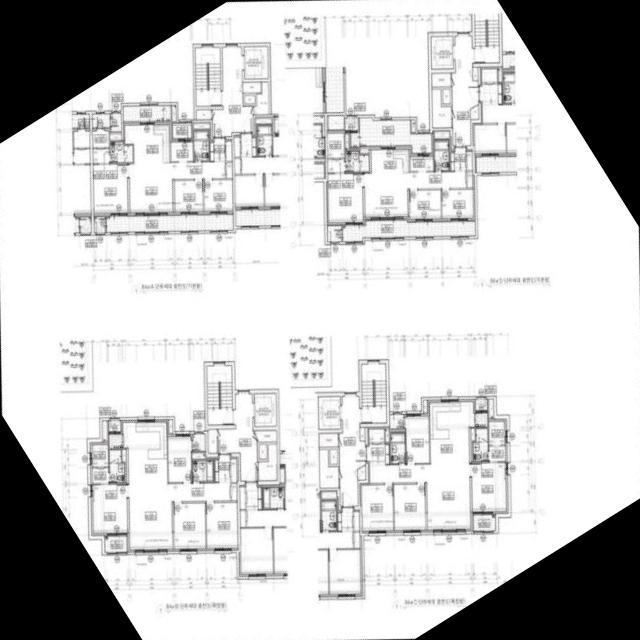background: (0, 0, 640, 640)
space_balconi: (342, 220, 475, 241), (359, 117, 432, 153), (106, 214, 233, 232), (123, 105, 171, 121), (104, 536, 127, 552), (473, 515, 495, 531), (172, 123, 191, 138), (92, 113, 110, 127)
space_bedroom: (471, 462, 506, 511), (92, 484, 127, 533), (328, 173, 363, 222), (93, 164, 128, 213), (206, 502, 238, 548), (393, 484, 425, 530), (361, 484, 393, 530), (173, 503, 205, 548), (405, 416, 429, 463), (167, 436, 191, 482), (409, 190, 441, 219), (442, 189, 473, 218), (174, 180, 203, 211), (204, 180, 233, 211)
space_dressroom: (488, 421, 505, 461), (327, 133, 344, 172), (92, 444, 108, 483), (92, 129, 109, 163)
space_elevator: (244, 46, 268, 78), (318, 396, 340, 429), (431, 36, 453, 69), (254, 393, 276, 426)
space_elevator_hall: (212, 47, 253, 136), (218, 394, 257, 480), (451, 36, 478, 145), (339, 396, 365, 506)
space_front: (214, 455, 237, 482), (366, 443, 389, 465), (210, 138, 232, 161), (450, 148, 466, 171)
space_kitchen: (429, 402, 475, 463), (123, 422, 167, 484), (125, 124, 169, 164), (371, 149, 409, 173)
space_living_room: (128, 482, 237, 549), (369, 464, 470, 529), (129, 161, 232, 212), (364, 171, 466, 217)
space_other: (319, 449, 338, 488), (432, 89, 451, 127), (258, 444, 277, 480), (254, 82, 268, 114), (171, 142, 193, 161), (410, 157, 433, 171), (319, 433, 338, 446), (431, 73, 450, 86), (254, 430, 276, 441), (328, 115, 344, 129), (208, 429, 217, 453), (327, 226, 341, 241), (193, 434, 205, 451), (110, 113, 121, 131), (389, 414, 403, 428), (369, 429, 384, 442), (242, 82, 261, 92), (109, 434, 122, 447), (196, 109, 211, 119), (476, 413, 487, 426), (470, 428, 474, 461), (122, 449, 126, 482), (470, 104, 478, 119), (466, 151, 472, 170), (357, 465, 365, 479), (442, 89, 450, 103), (330, 449, 337, 464), (259, 444, 266, 459), (351, 133, 359, 146), (435, 132, 449, 138), (102, 421, 106, 441), (244, 95, 254, 103), (472, 67, 478, 80), (467, 172, 472, 187), (192, 453, 204, 459), (489, 399, 493, 417), (110, 134, 121, 140), (360, 427, 365, 440), (193, 124, 209, 128), (171, 105, 175, 121), (385, 428, 389, 441), (423, 400, 427, 412), (411, 120, 415, 132), (345, 134, 348, 149), (169, 419, 172, 433), (360, 149, 368, 153)
space_outdoor_room: (93, 217, 105, 232), (345, 118, 358, 130), (108, 420, 120, 431), (475, 399, 487, 410)
space_staircase: (195, 47, 221, 106), (207, 365, 232, 425), (474, 3, 499, 62), (361, 364, 386, 422)
space_toilet: (345, 151, 369, 172), (109, 450, 124, 481), (473, 428, 487, 461), (110, 141, 132, 162), (390, 433, 405, 463), (434, 140, 449, 170), (194, 130, 209, 160), (192, 460, 213, 481)
